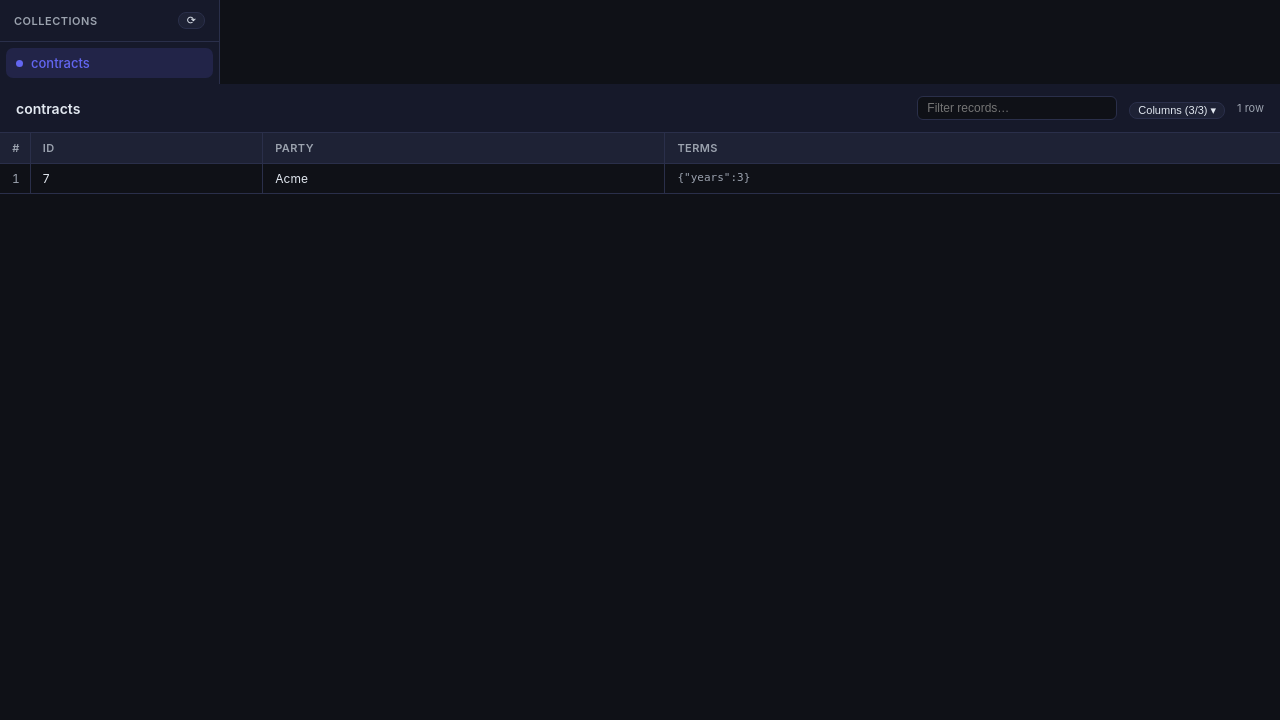
Test: opens a detail drawer with all fields when a row is clicked
Click the text "Acme" at (464, 178), box left=263, top=164, right=665, bottom=194
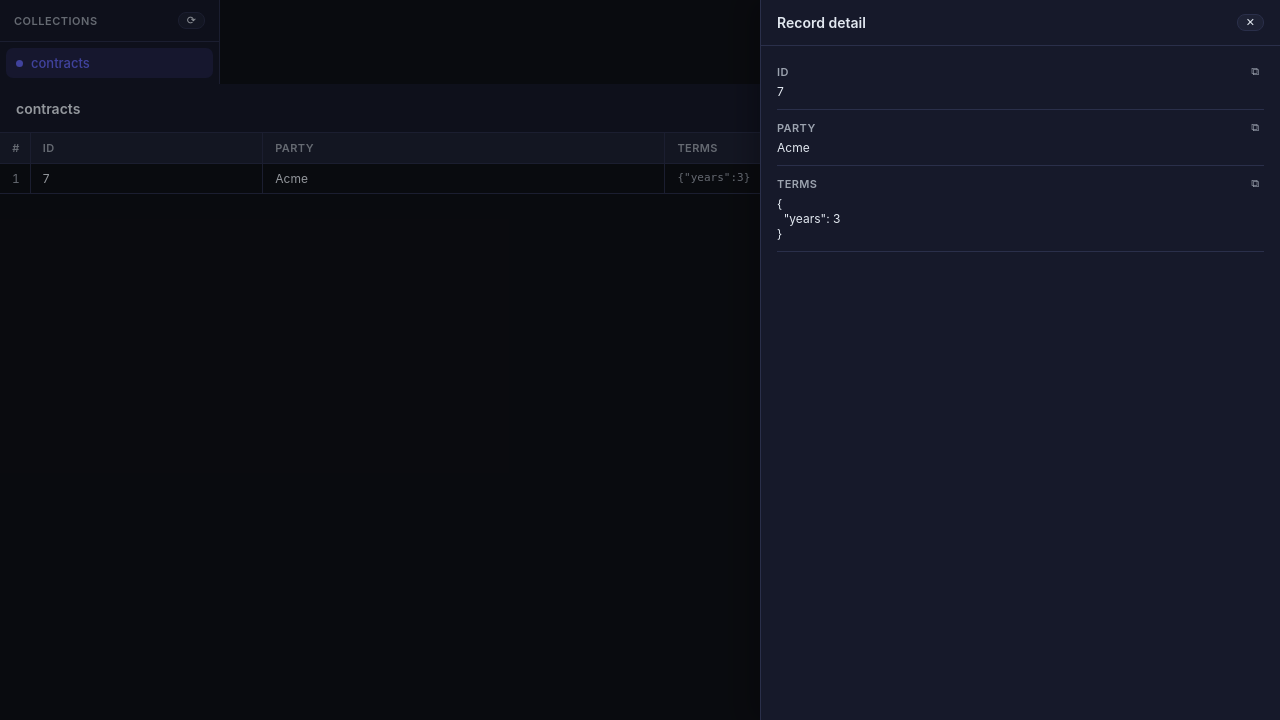
Check: the text "Record detail" is shown, box left=777, top=14, right=866, bottom=31
Check: the text "{ \"years\": 3 }" is shown, box left=777, top=196, right=840, bottom=241
Click the button titled "Close" at (1250, 22), box left=1237, top=14, right=1264, bottom=31
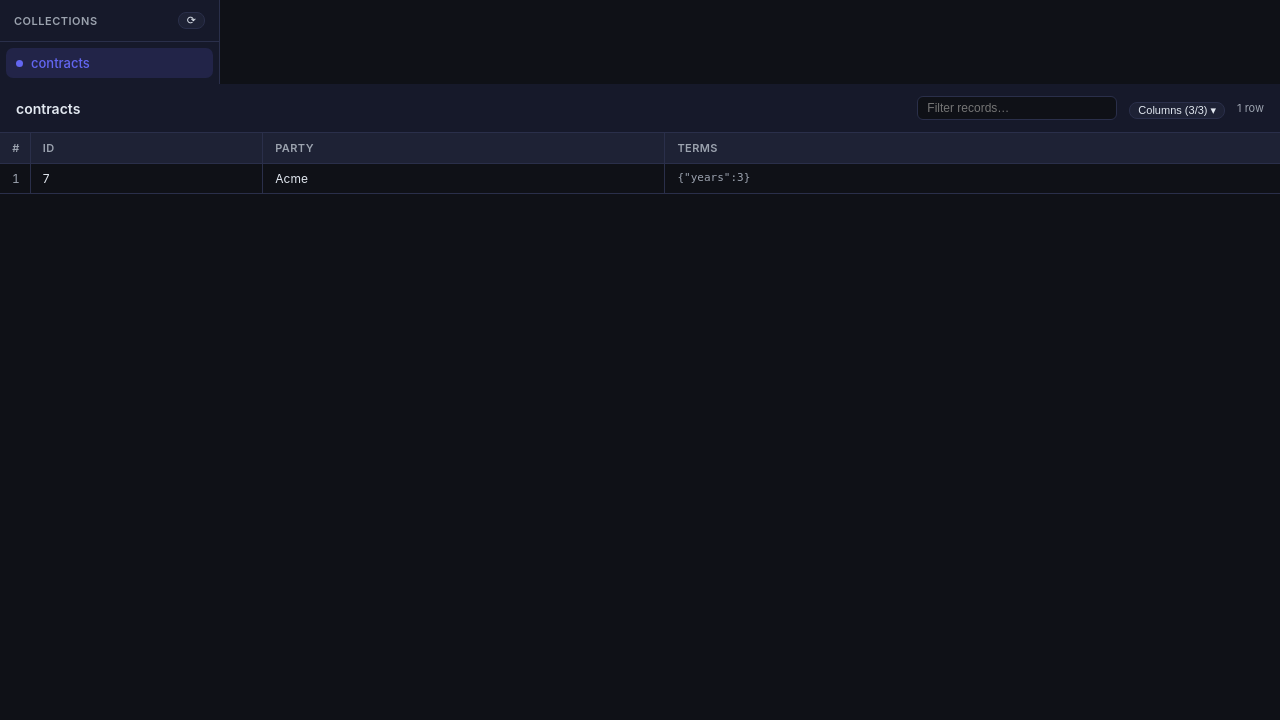
Check: the heading "Record detail" is gone
